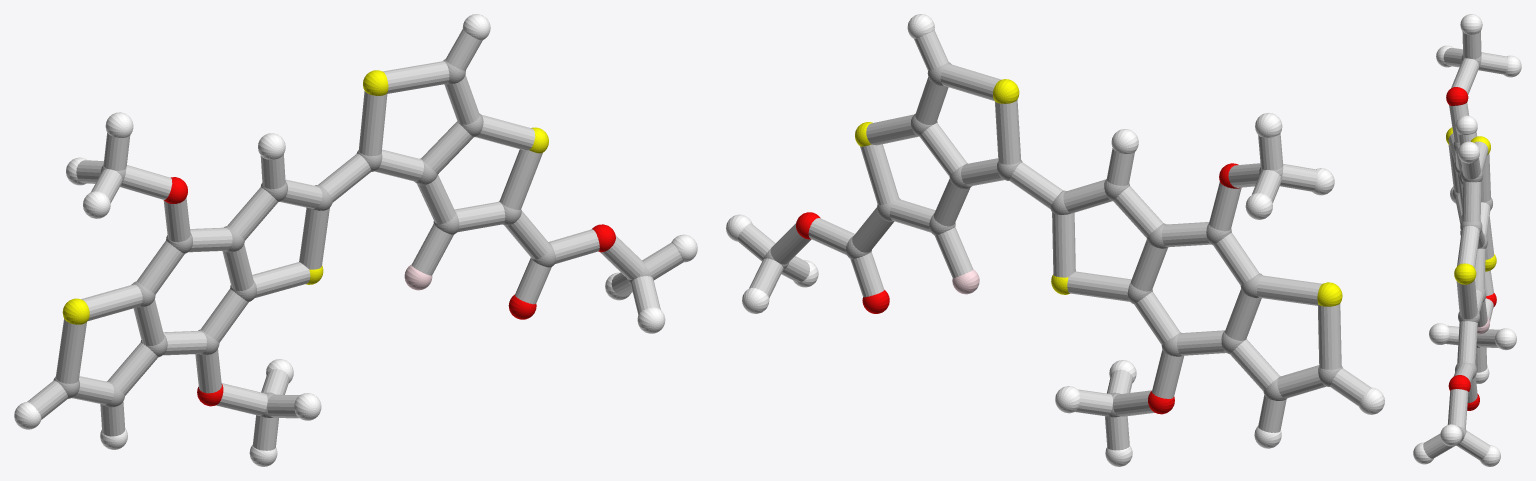
Rendered from color.glb.
The picture shows the model from 3 angles, left to right: view 1: azimuth 30°, elevation 25°; view 2: azimuth 150°, elevation 25°; view 3: azimuth 270°, elevation 25°; orthographic projection. The views are drawn at different scales.
Parts seen in each view (by area): view 1: grp15205, grp8689, grp1, grp7241, grp13395; view 2: grp15205, grp8689, grp1, grp7241, grp13395; view 3: grp15205, grp8689, grp1, grp13395, grp7241.
Boxes of the visible parts, box(x1,y1,x2,y2) form: grp15205: box(27, 29, 683, 450); grp8689: box(14, 14, 697, 466); grp1: box(53, 59, 651, 417); grp7241: box(62, 70, 548, 324); grp13395: box(164, 177, 615, 406); grp15205: box(737, 30, 1370, 450); grp8689: box(726, 14, 1384, 466); grp1: box(763, 62, 1342, 417); grp7241: box(855, 79, 1342, 306); grp13395: box(796, 163, 1240, 414); grp15205: box(1423, 31, 1508, 460); grp8689: box(1413, 14, 1521, 466); grp1: box(1452, 55, 1492, 445); grp13395: box(1446, 87, 1496, 410); grp7241: box(1446, 127, 1496, 284).
Bounding box in the file's own units: 16.73 × 9.59 × 2.94.
